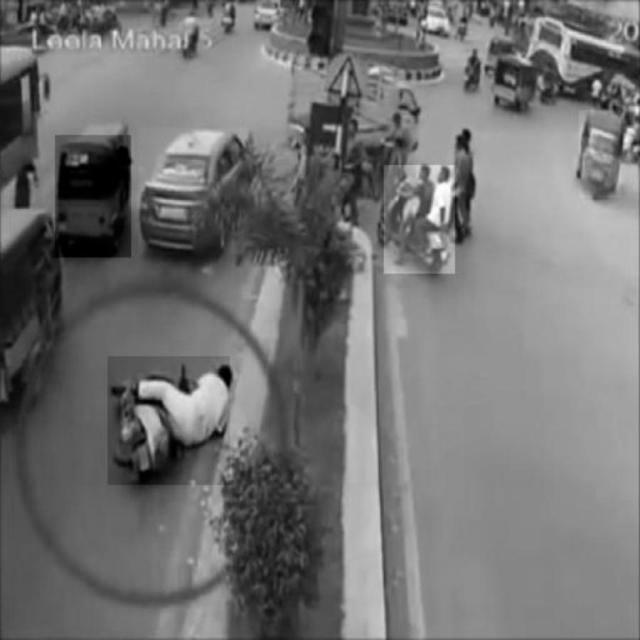accident: (108, 357, 230, 485)
vehicle: (139, 128, 249, 254), (55, 135, 131, 259), (384, 165, 455, 273), (579, 110, 621, 198)
